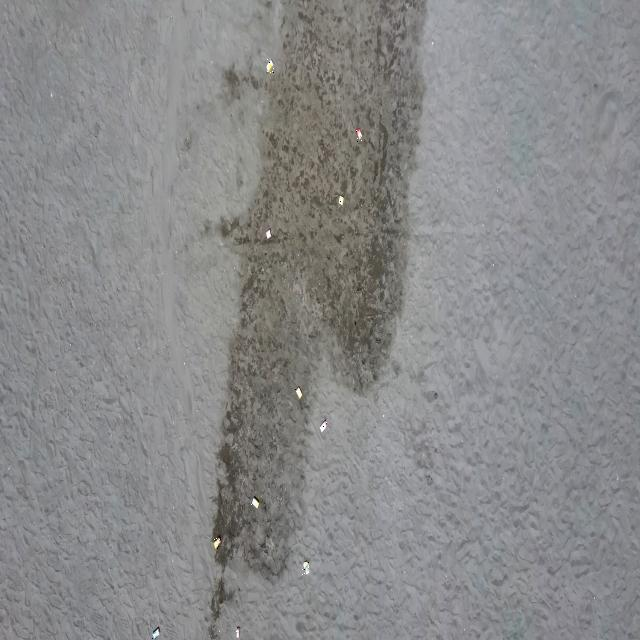Garbage: (212, 536, 220, 550), (320, 417, 327, 431), (151, 627, 159, 639), (252, 495, 259, 507), (264, 227, 271, 239), (355, 128, 362, 140), (266, 59, 272, 72), (303, 560, 308, 573), (337, 195, 343, 204), (296, 387, 300, 399), (236, 626, 239, 637)
